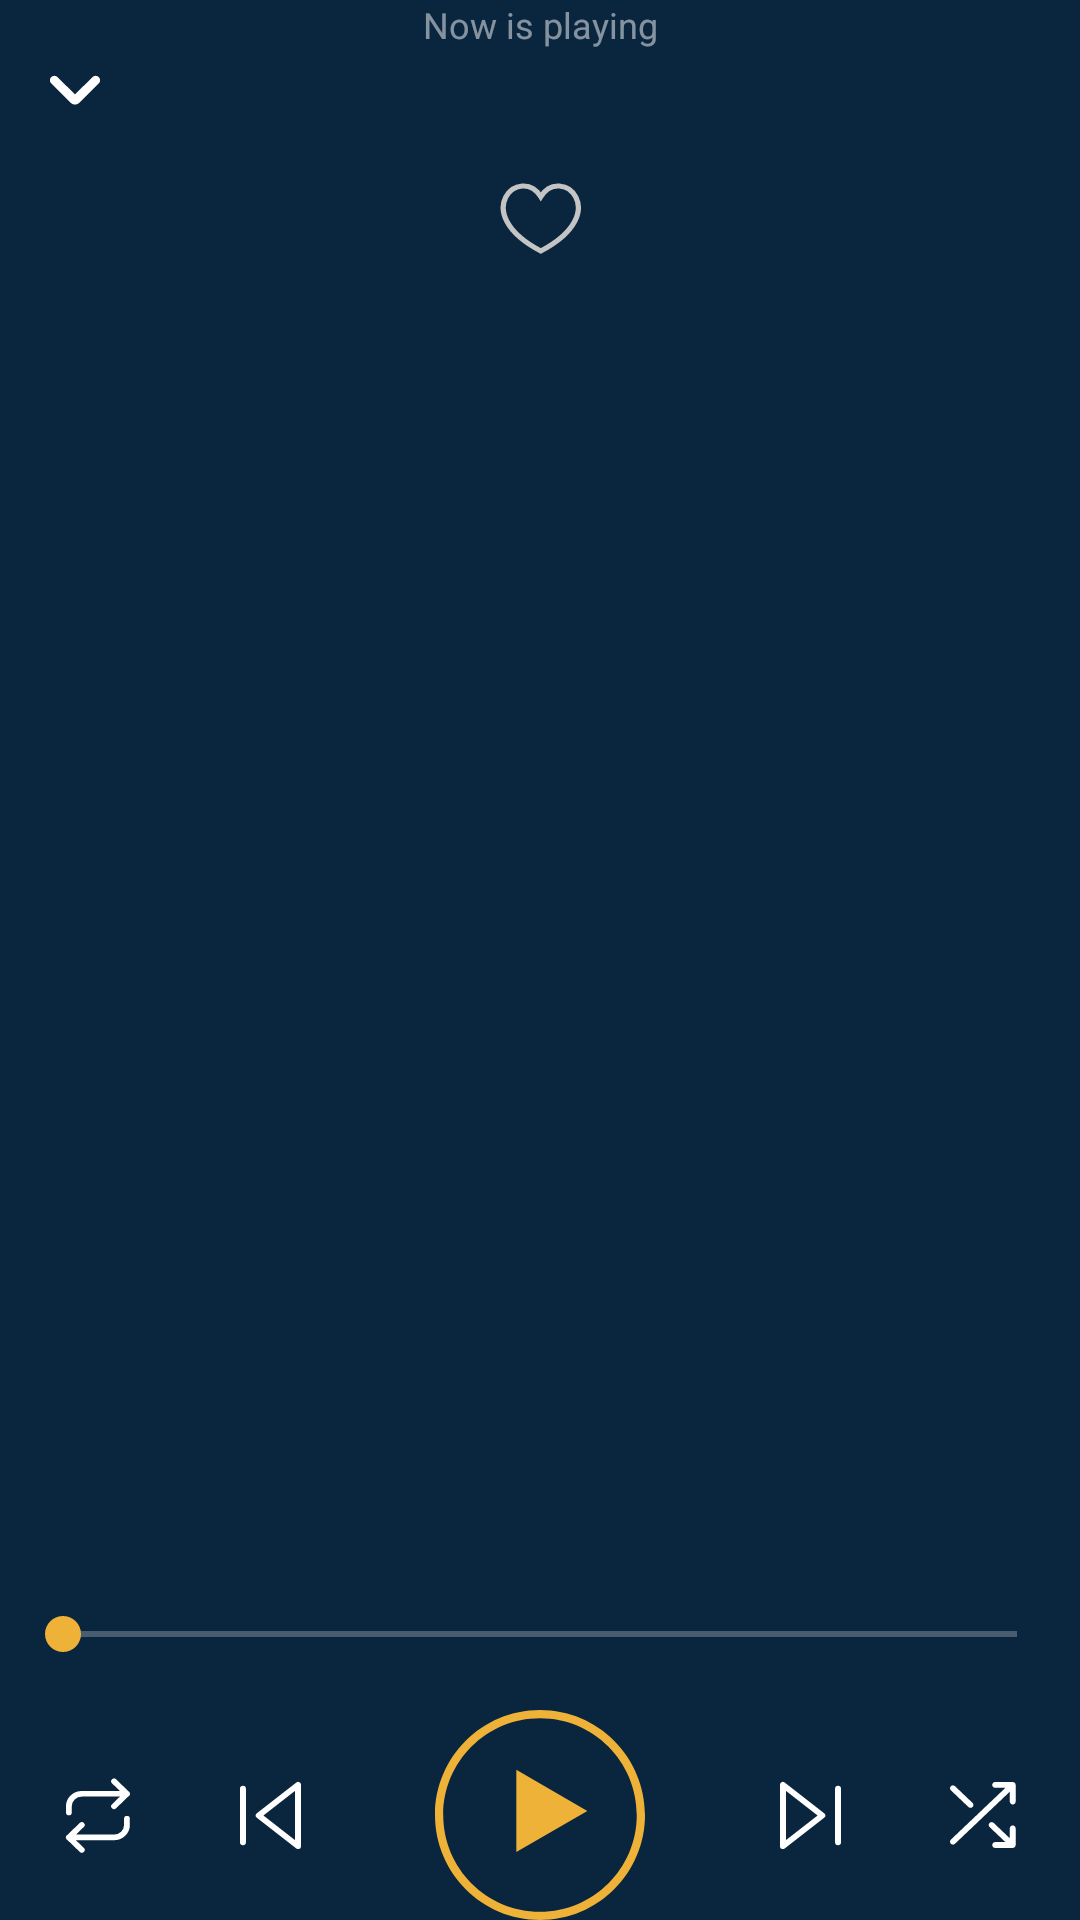

Named icons in this screenshot (1080×1920) and their centers, point (x, y):
Back: point (75, 90)
Next: point (810, 1815)
play: point (540, 1815)
Previous: point (270, 1815)
repeat all: point (97, 1815)
shuffle player: point (983, 1815)
Unfavorite: point (540, 218)
